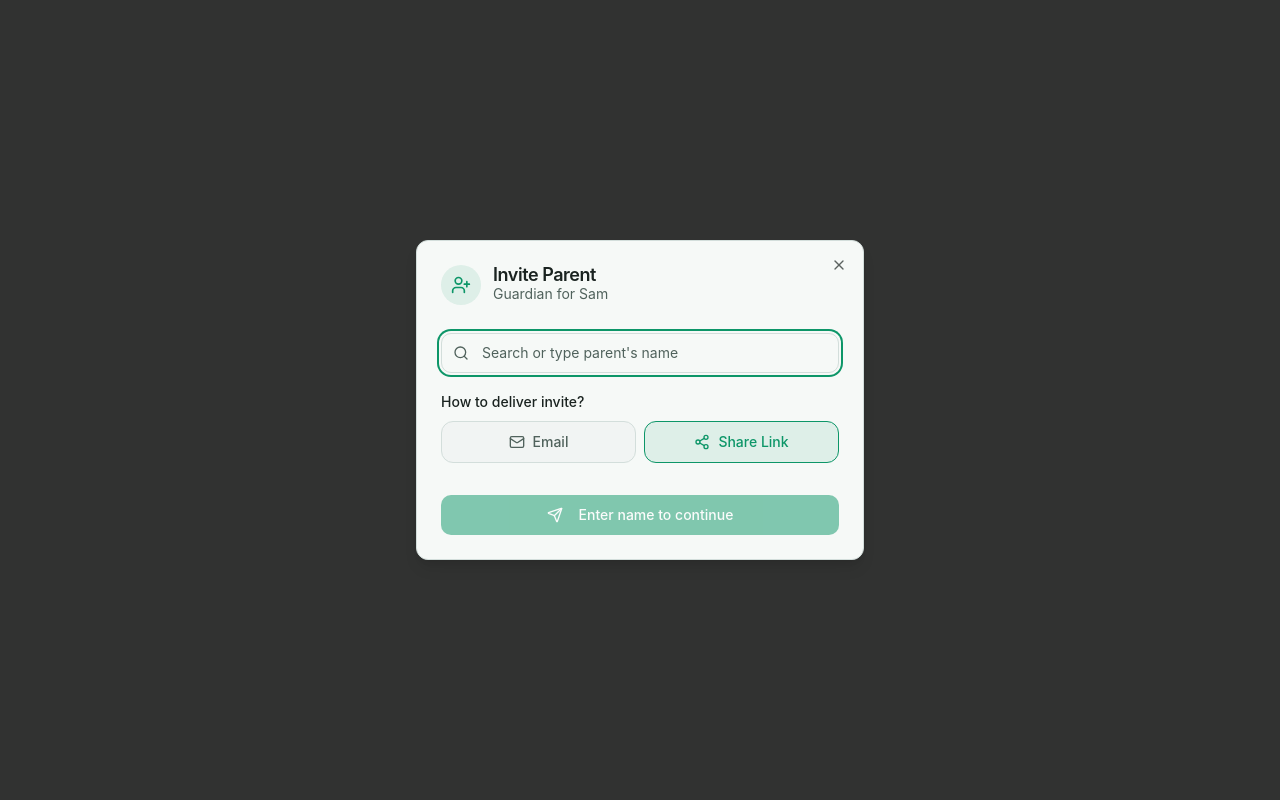
Test: email delivery verification › 8. invocation transport error preserves the invite/manual link but writes no email_sent_at
The image size is (1280, 800).
Type "Jo Parent" into the field with placeholder "Search or type parent's name" at (640, 353), box left=441, top=333, right=839, bottom=373
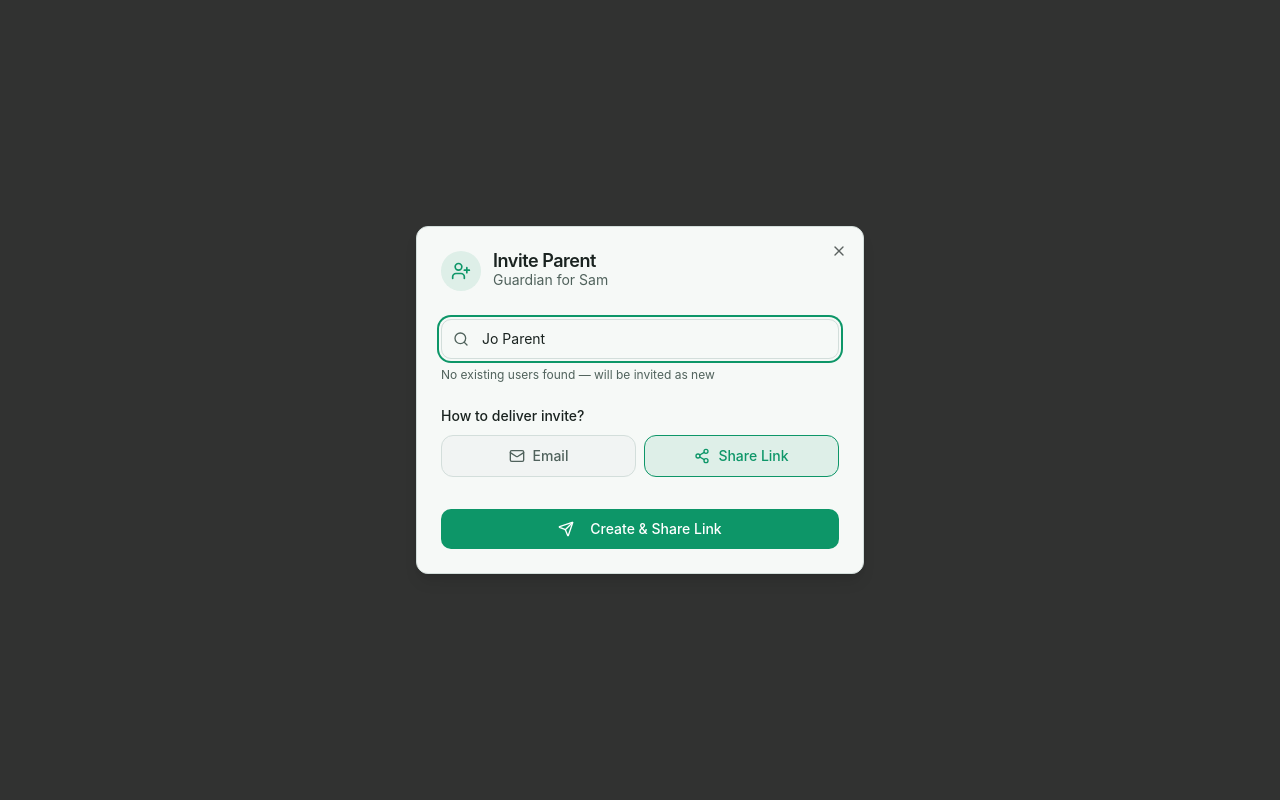
Click the button "Email" at (538, 456), box left=441, top=435, right=636, bottom=477
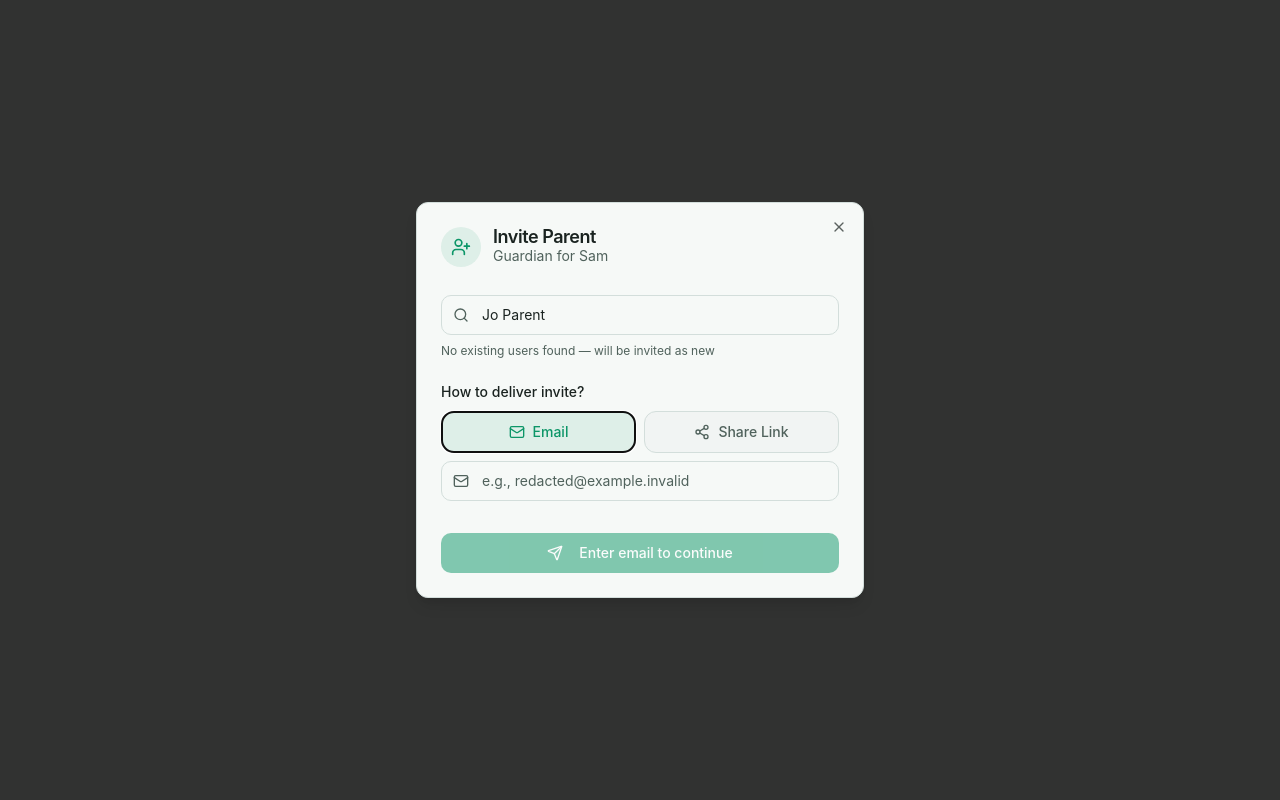
Type "redacted@example.invalid" into the field with placeholder "e.g., redacted@example.invalid" at (640, 481), box left=441, top=461, right=839, bottom=501
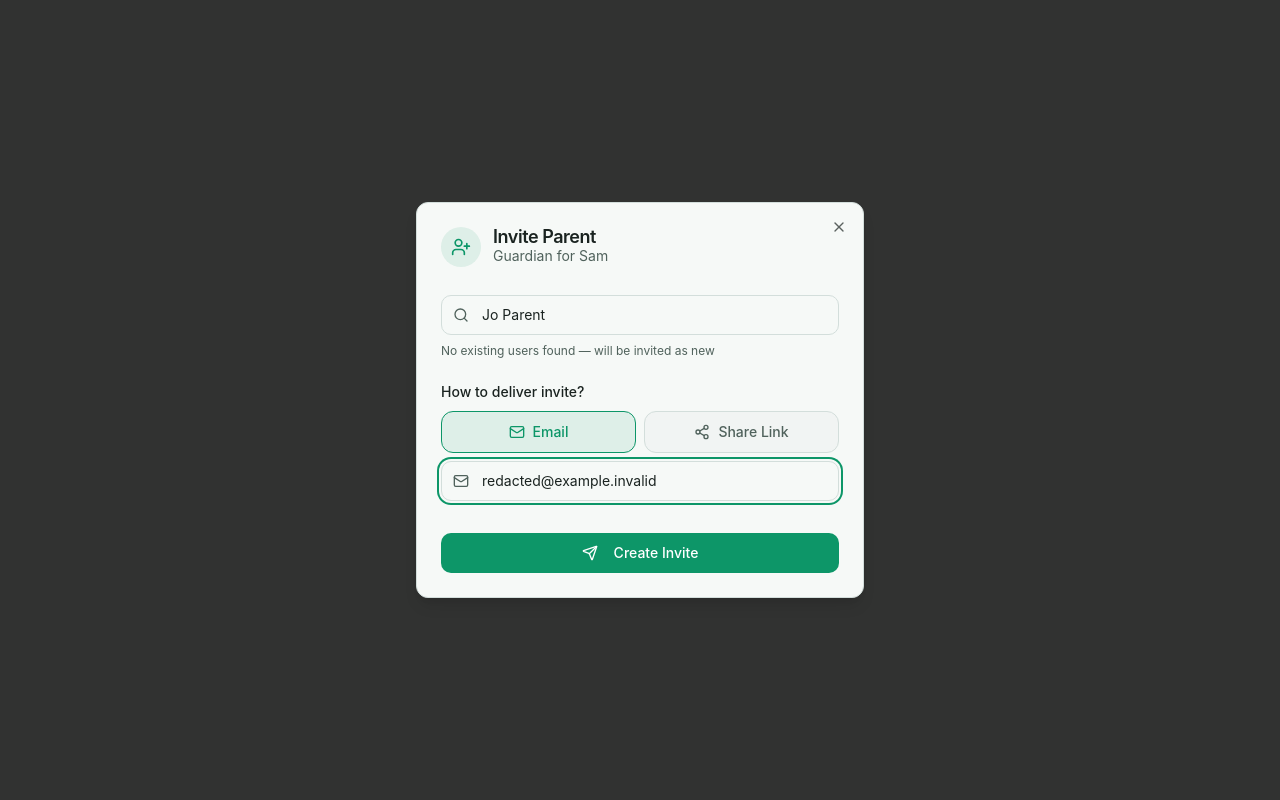
Click the button "Create Invite" at (640, 553), box left=441, top=533, right=839, bottom=573
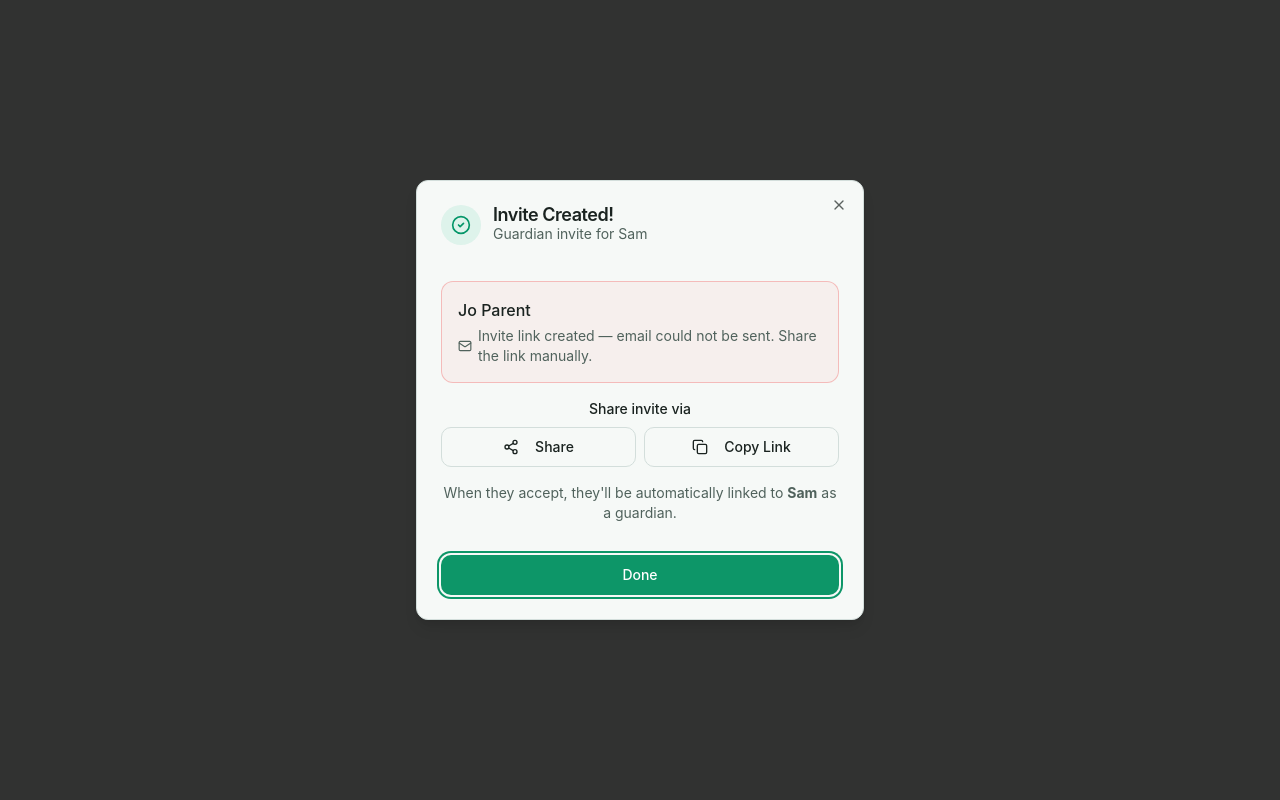
Check: the heading "Invite Created!" is shown, box left=493, top=204, right=614, bottom=225
Check: the button "Copy Link" is shown, box left=644, top=427, right=839, bottom=467
